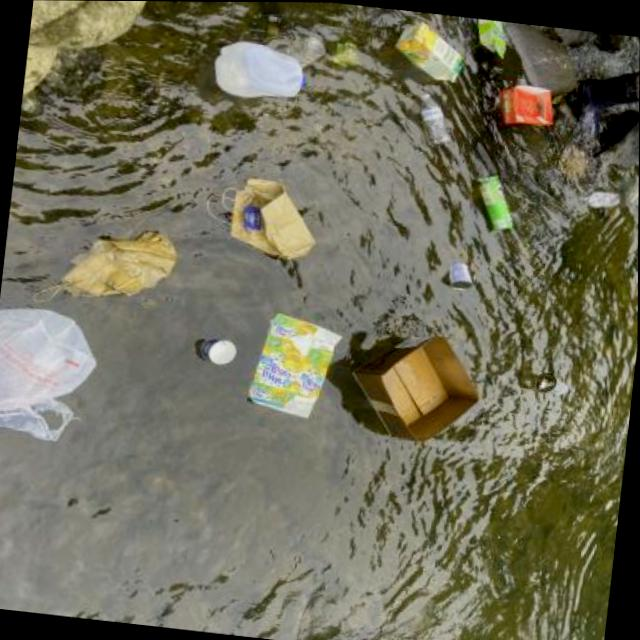Can-Metal: (465, 169, 522, 237), (445, 260, 480, 293)
Cardboard: (339, 320, 491, 456), (241, 304, 347, 424), (390, 19, 470, 86), (494, 77, 559, 130), (466, 17, 512, 60)
Paper: (52, 217, 186, 323), (196, 168, 328, 270), (197, 333, 242, 369)
Plastic: (0, 301, 104, 454), (207, 37, 317, 111), (409, 90, 457, 149), (534, 369, 573, 401), (636, 267, 638, 309)
